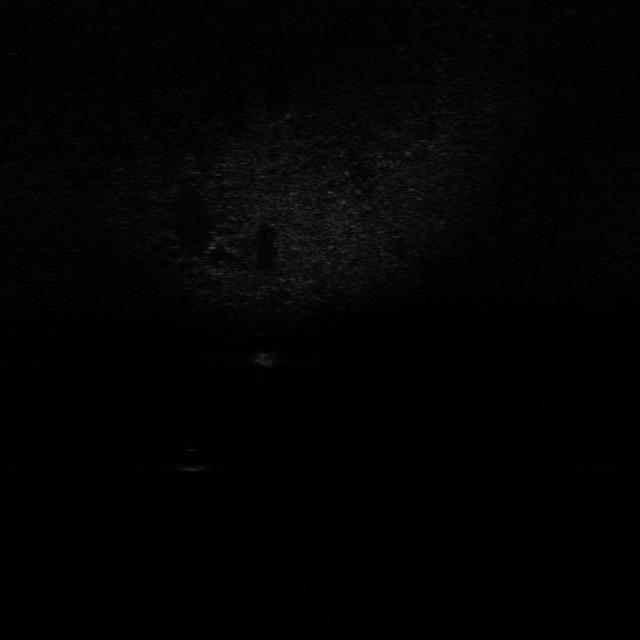ball: (170, 445, 210, 473)
cube: (250, 343, 280, 369)
